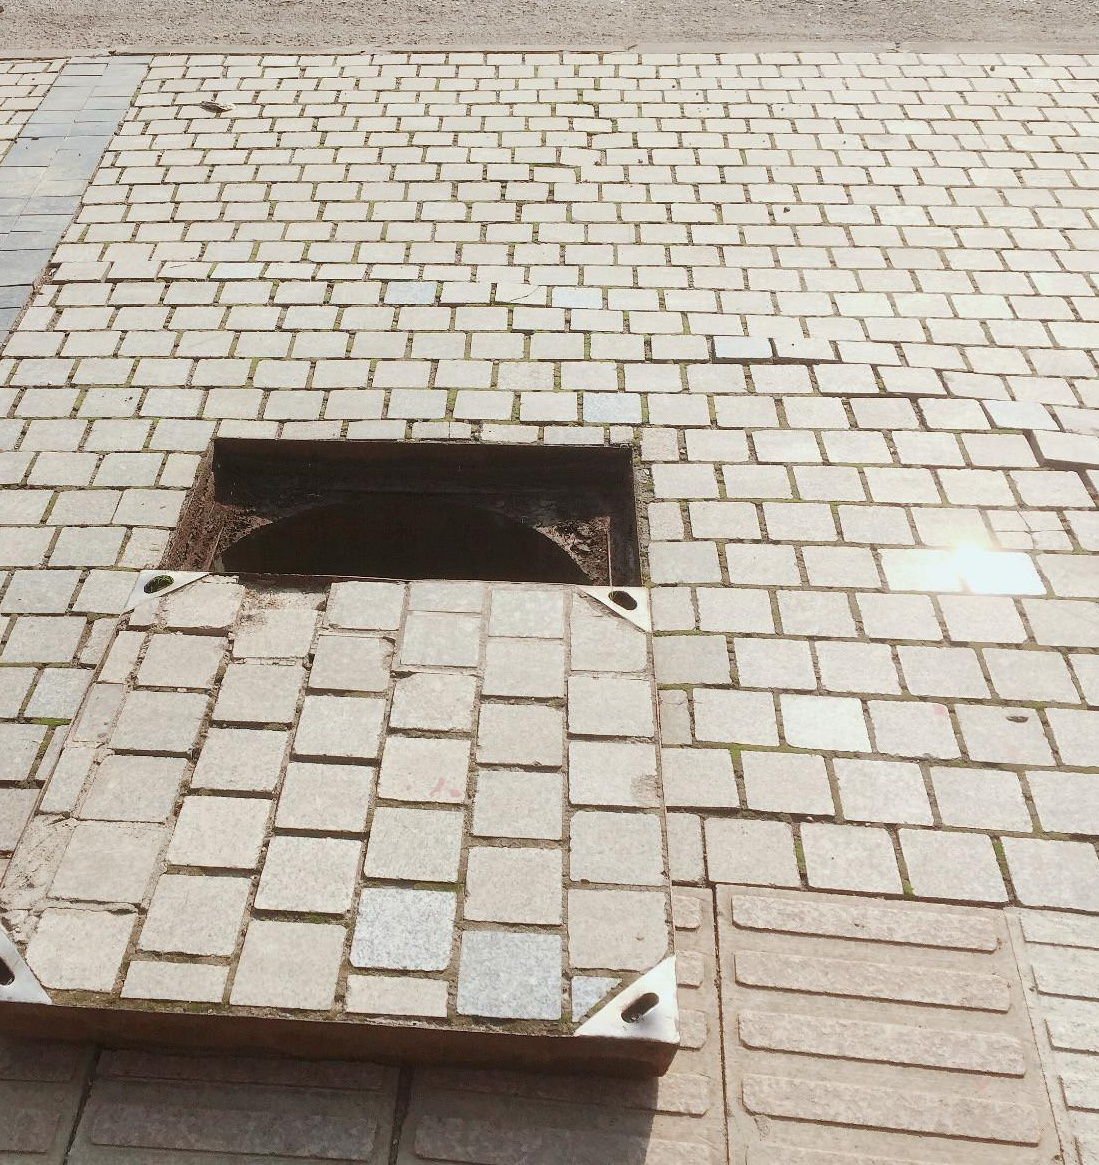uncovered: (11, 430, 684, 1067)
